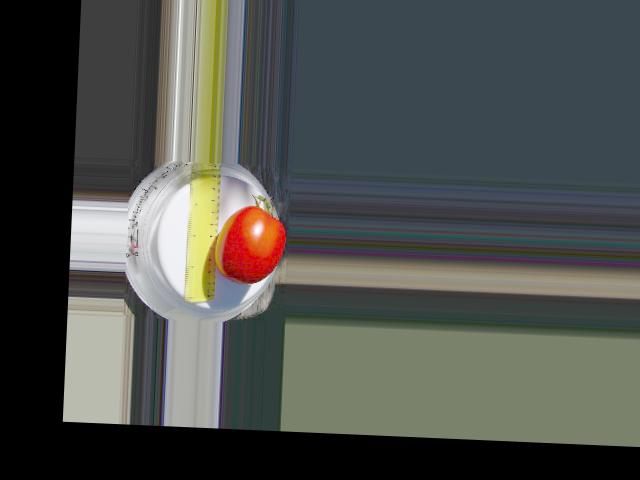tomato: (212, 203, 287, 285)
